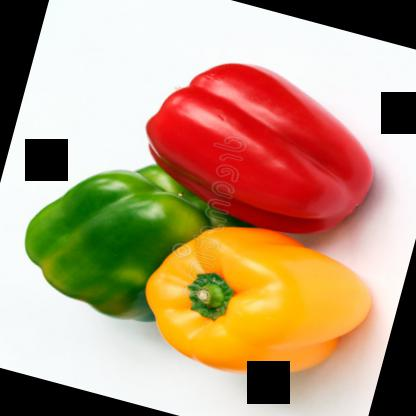bell pepper: (130, 42, 400, 254), (131, 202, 387, 404), (10, 134, 239, 339)
